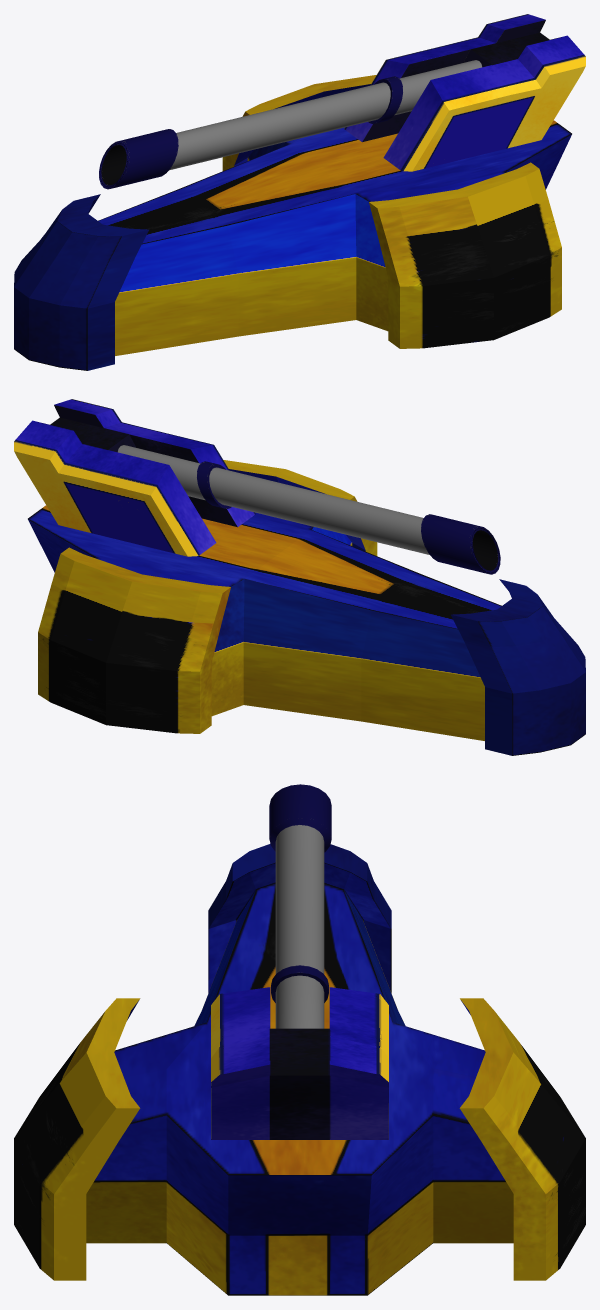
The model's file is ChimeraFBX.fbx.
3 renders of one model, top to bottom at view 1: azimuth 30°, elevation 25°; view 2: azimuth 150°, elevation 25°; view 3: azimuth 270°, elevation 25°, orthographic. The views are drawn at different scales.
Parts seen in each view (by area): view 1: pCube22, pCube24, pCylinder30; view 2: pCube22, pCube24, pCylinder30; view 3: pCube22, pCube24, pCylinder30.
Boxes of the visible parts, x1,y1,x2,y2 form: pCube22: [14, 75, 571, 370]; pCube24: [344, 14, 585, 171]; pCylinder30: [99, 60, 481, 189]; pCube22: [28, 460, 585, 755]; pCube24: [14, 399, 255, 556]; pCylinder30: [118, 445, 500, 574]; pCube22: [14, 844, 585, 1295]; pCube24: [211, 987, 388, 1139]; pCylinder30: [269, 784, 331, 1028].
Bounding box in the file's own units: 9.37 × 3.29 × 6.25.
